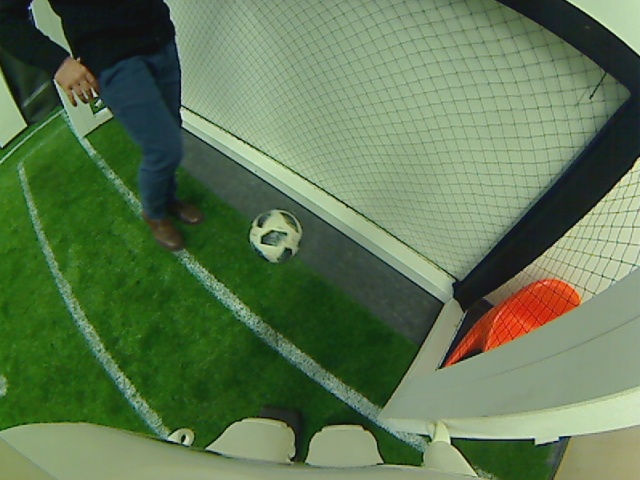ball: (245, 208, 304, 264)
